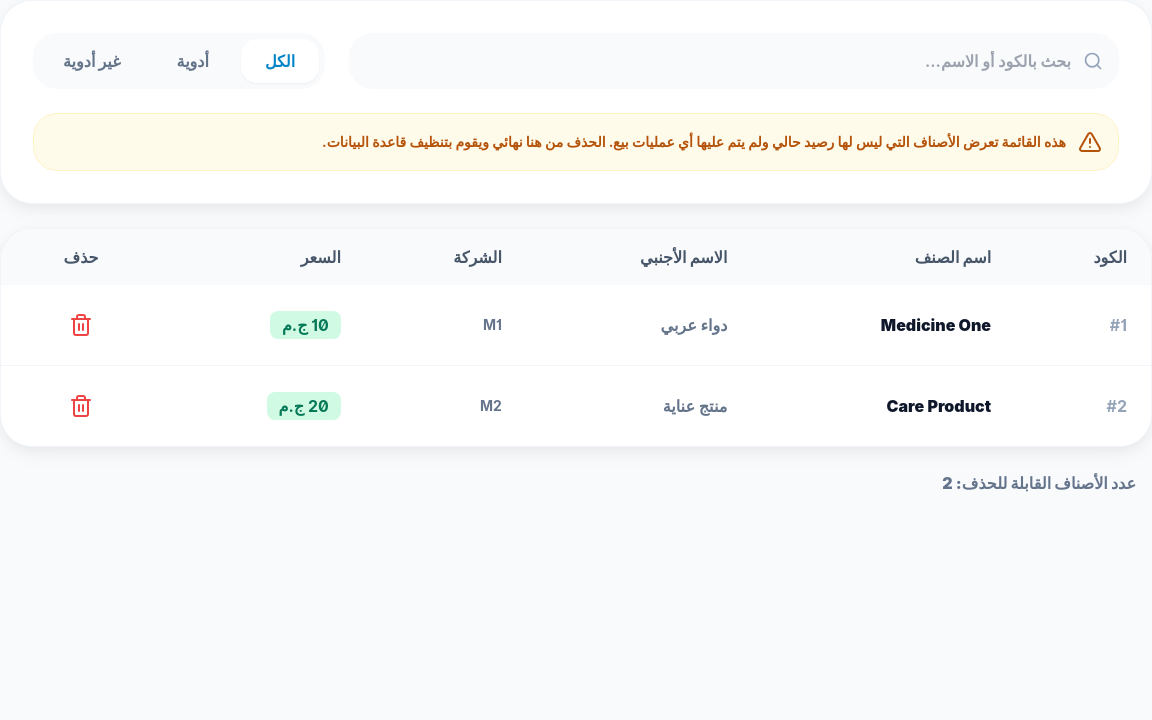
Test: unused-item cleanup UI interactions › filters by search and medicine type and renders the explicit no-match state
Click the button "أدوية".
click(193, 61)  # box top-left (152, 39), bottom-right (233, 83)
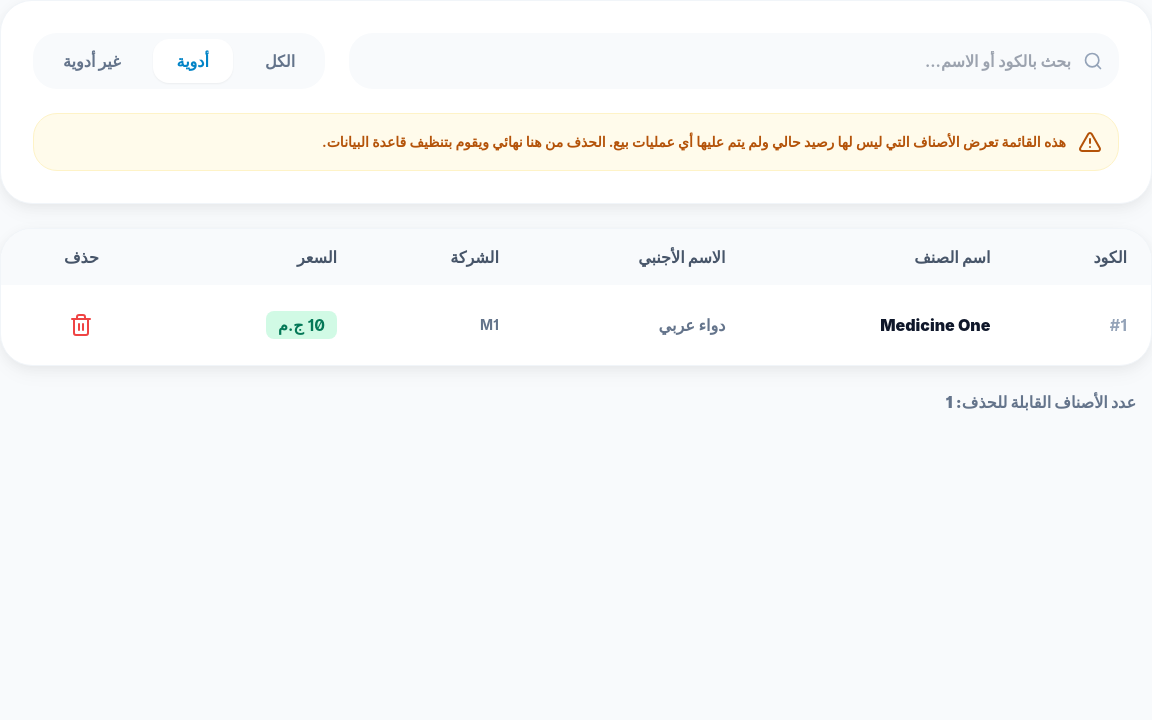
Expected: the text "Medicine One" is shown, top-left (749, 285), bottom-right (1014, 365)
Result: the text "Care Product" is gone
Click the button "غير أدوية".
click(92, 61)  # box top-left (39, 39), bottom-right (144, 83)
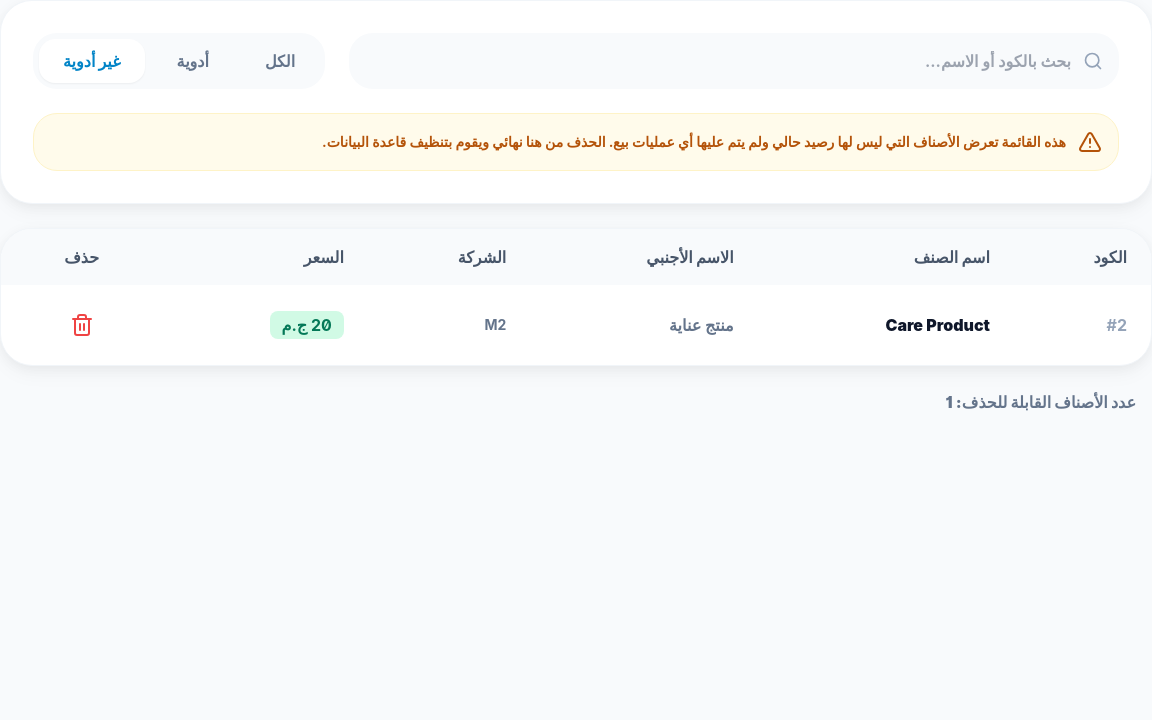
Result: the text "Medicine One" is gone
Result: the text "Care Product" is shown at top-left (758, 285), bottom-right (1014, 365)
Type "missing" into the field with placeholder "بحث بالكود أو الاسم...".
click(734, 61); type("missing")  # box top-left (349, 33), bottom-right (1119, 89)
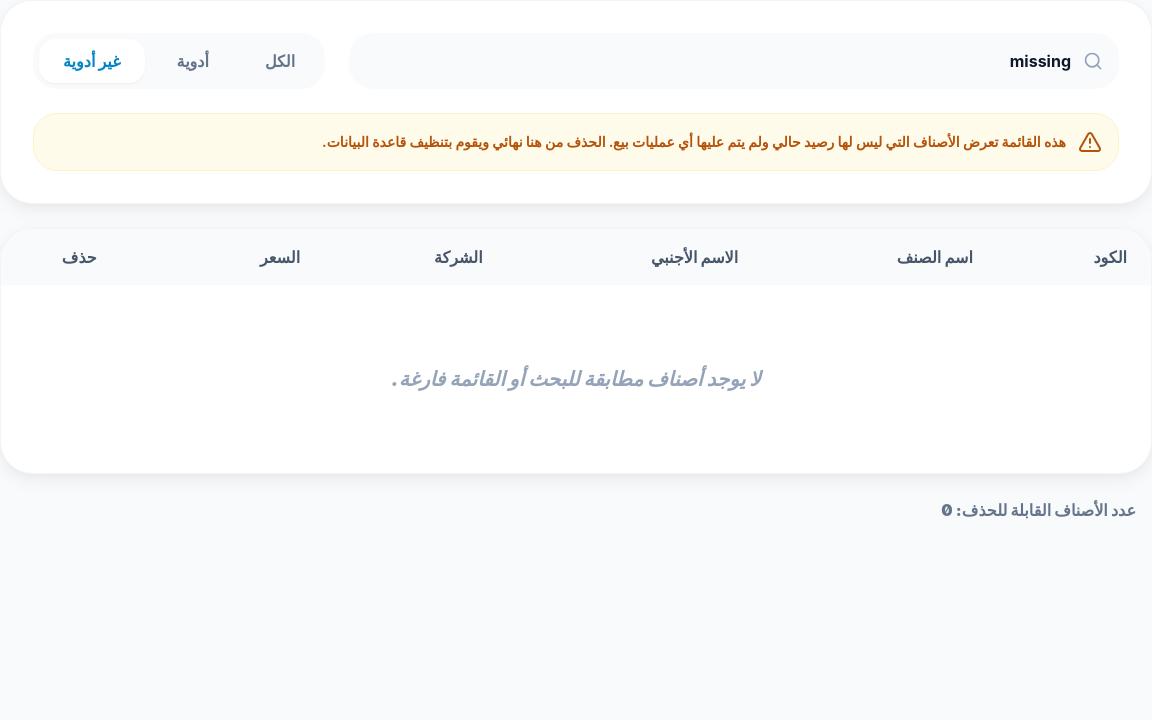
Result: the text "لا يوجد أصناف مطابقة للبحث أو القائمة فارغة." is shown at top-left (1, 285), bottom-right (1151, 473)
Result: the text "عدد الأصناف القابلة للحذف: 0" is shown at top-left (941, 498), bottom-right (1136, 522)
